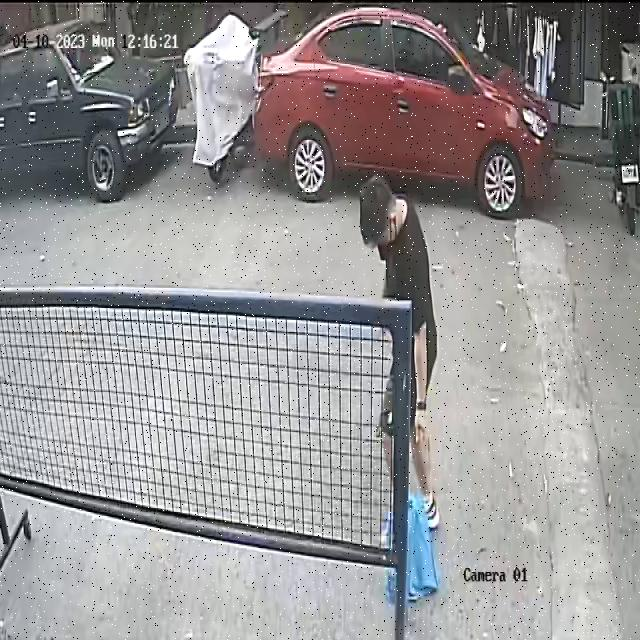garbage_dumping: (380, 485, 440, 604)
